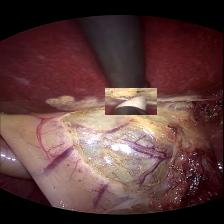Hook: (105, 87, 157, 114)
